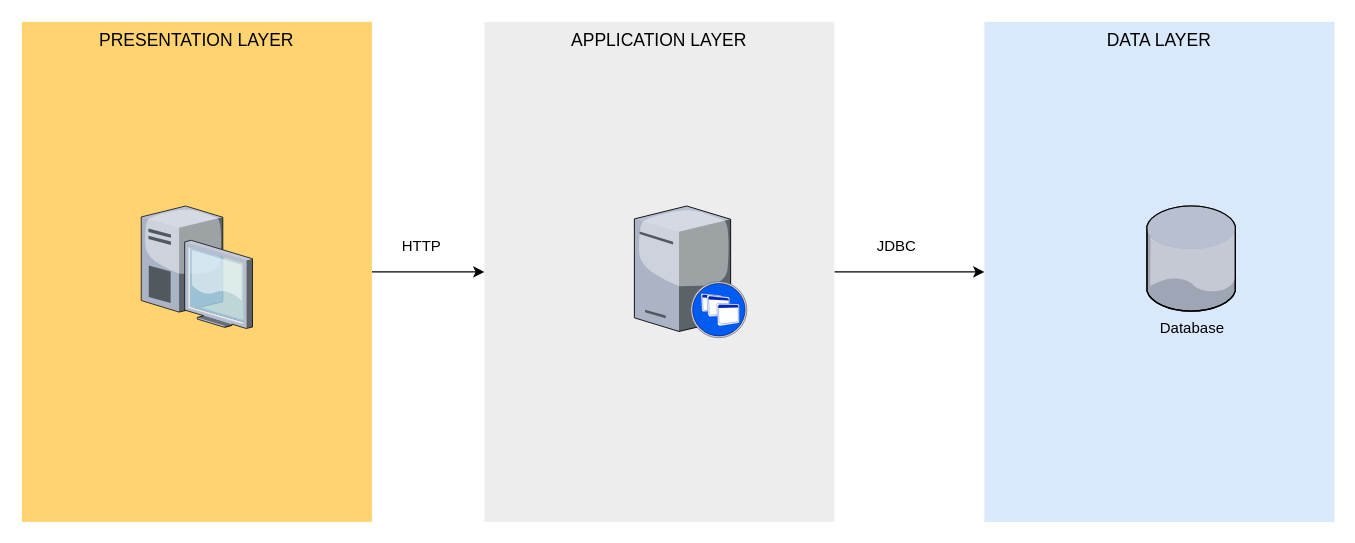
This 1355x543 diagram has some shape labels left out. Each missing label, with the centre of its shape:
"Backend" goes at (x=690, y=271).
"Client" goes at (x=196, y=266).
